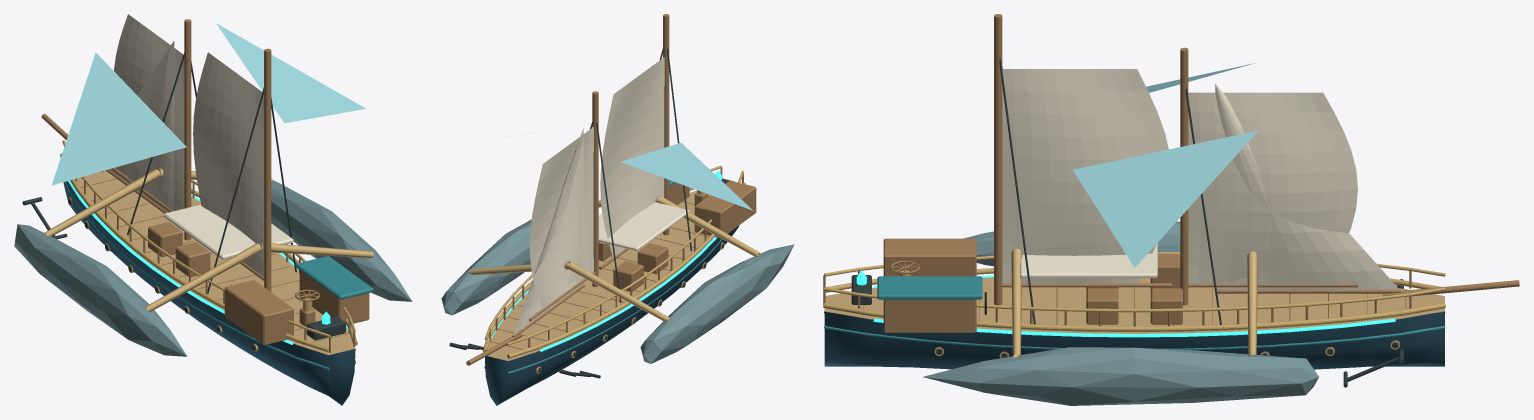
Rendered from premium_imperial_yacht.glb.
The picture shows the model from 3 angles, left to right: view 1: azimuth 30°, elevation 25°; view 2: azimuth 150°, elevation 25°; view 3: azimuth 270°, elevation 25°; orthographic projection. The views are drawn at different scales.
Visible parts, largest first — view 1: premium_imperial_yacht; view 2: premium_imperial_yacht; view 3: premium_imperial_yacht.
Part boxes in pixels (box(x1,y1,x2,y2)): premium_imperial_yacht: box(14, 14, 412, 405); premium_imperial_yacht: box(441, 14, 794, 405); premium_imperial_yacht: box(823, 14, 1519, 405).
Bounding box in the file's own units: 9.22 × 8.43 × 15.15.
